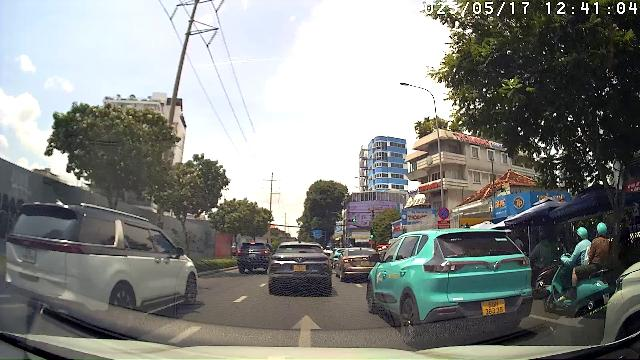130-cam-dung-va-do-xe: (438, 207, 450, 219)
